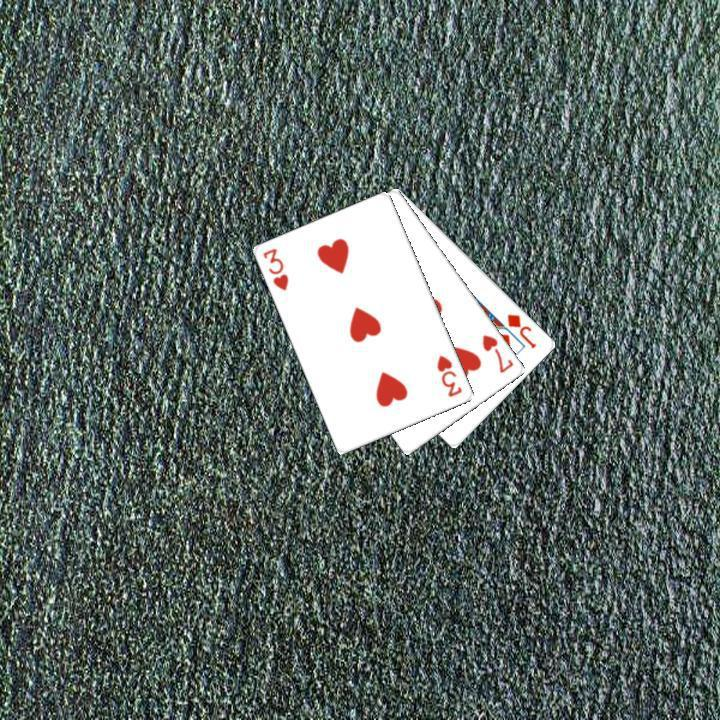3: (259, 244, 291, 293), (433, 351, 464, 399)
7: (478, 330, 516, 375)
J: (503, 309, 539, 351)
